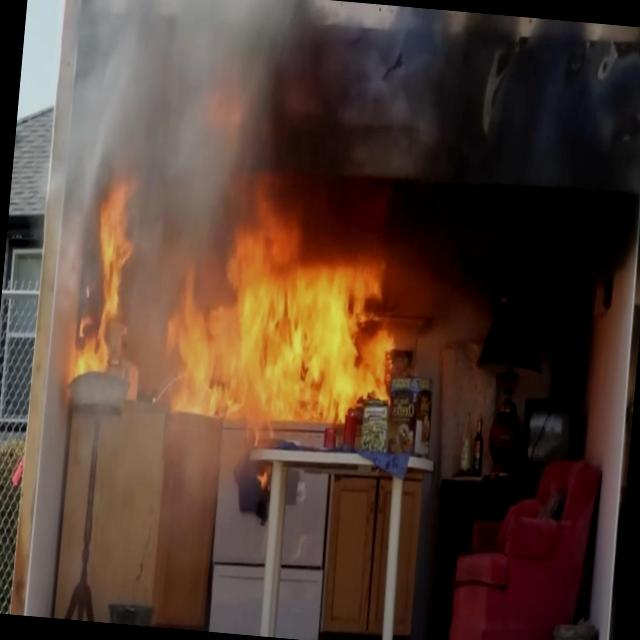fire: (49, 182, 413, 474)
